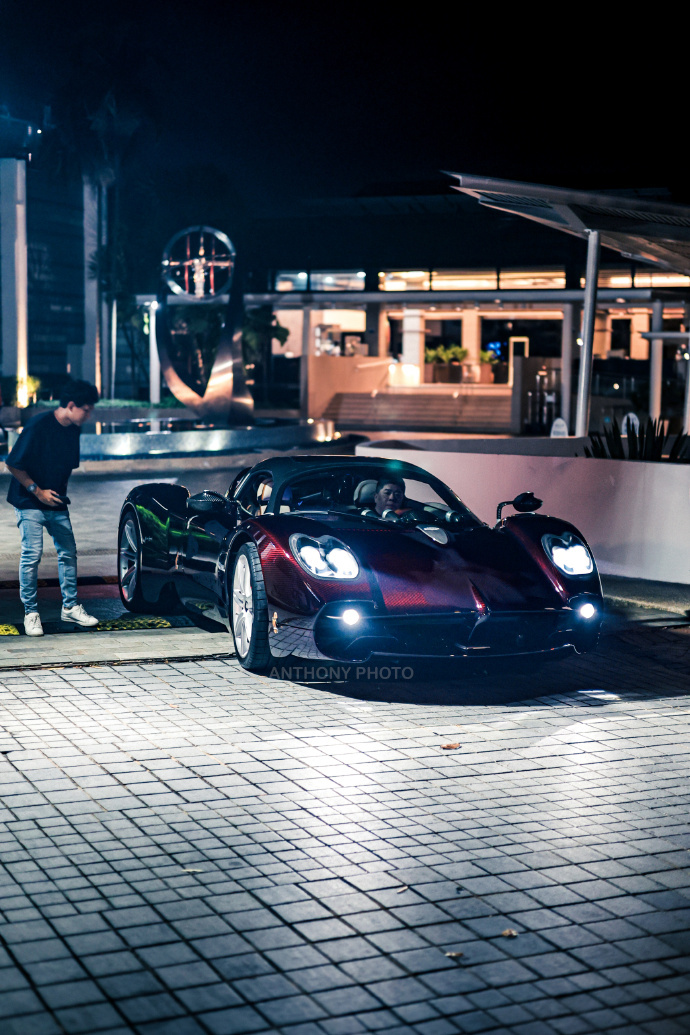other: (119, 443, 610, 680)
